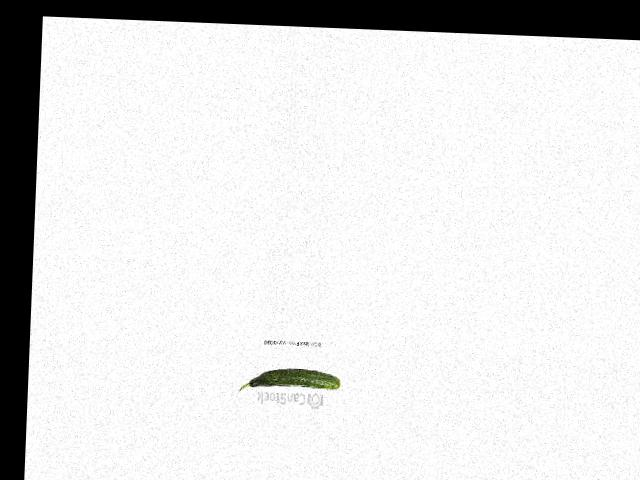cucumber: (238, 366, 340, 394)
